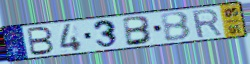3: (92, 18, 121, 50)
4: (59, 22, 84, 53)
B: (121, 15, 154, 48), (159, 11, 193, 43), (26, 25, 56, 57)
R: (190, 7, 225, 40)
